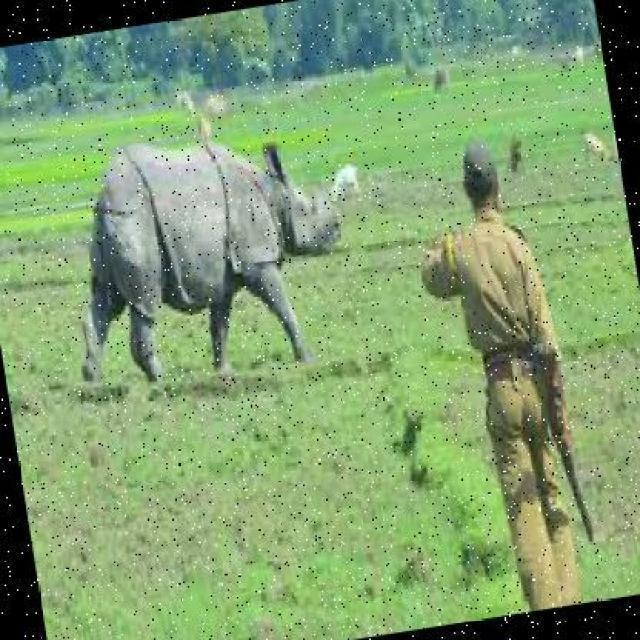ranger: (405, 110, 607, 608)
rhino: (54, 130, 393, 362)
weapon: (530, 337, 605, 571)
